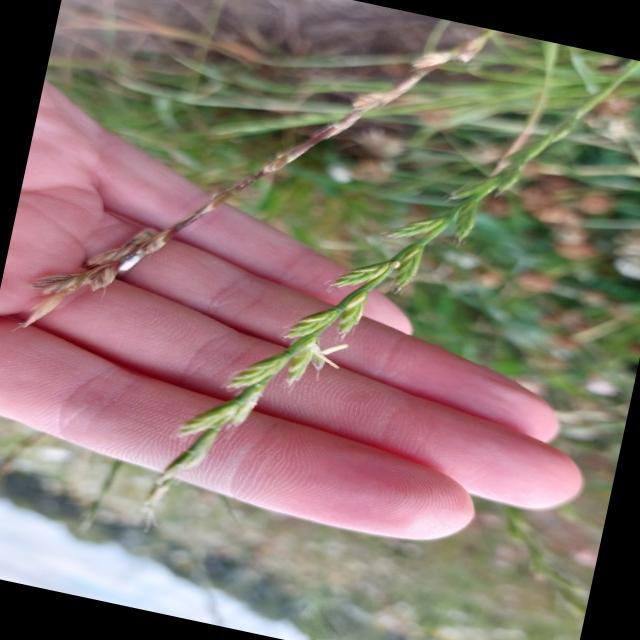Lolium: (169, 0, 640, 554), (32, 0, 571, 421)
